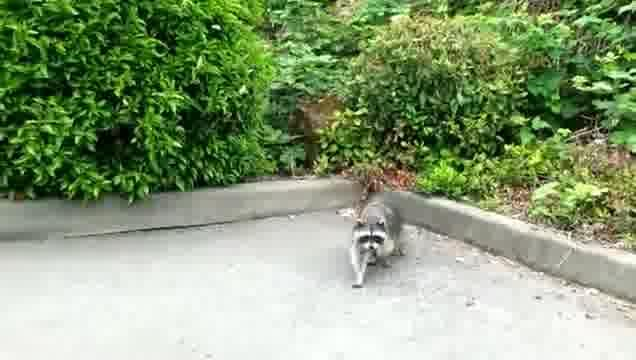raccoon: (349, 200, 402, 290)
